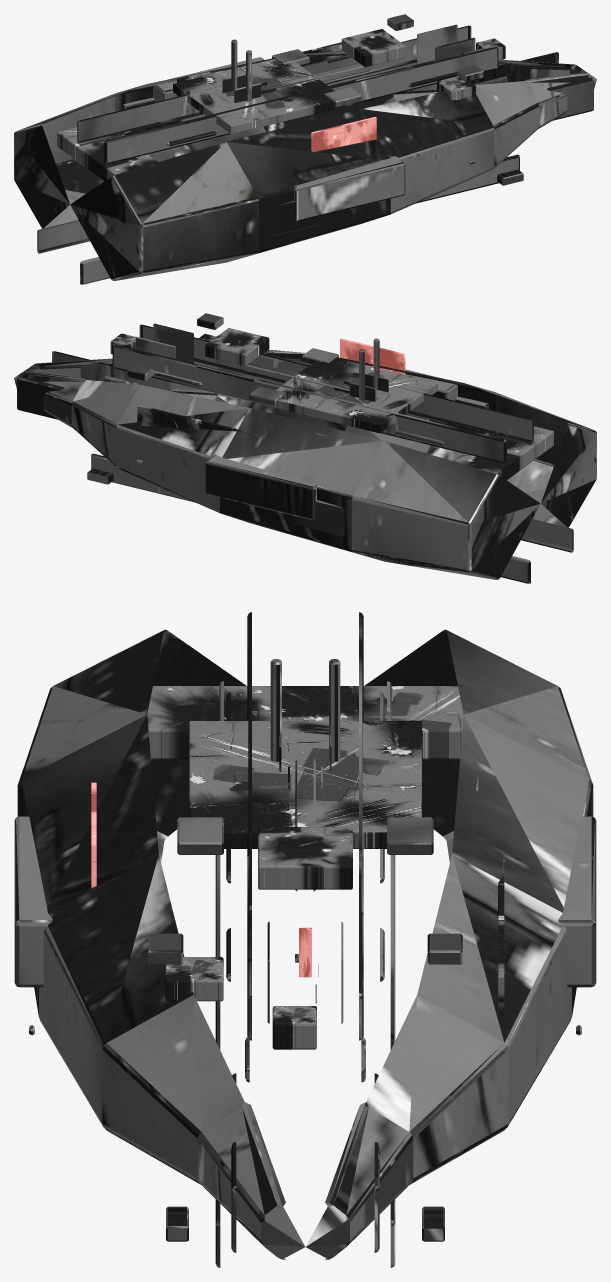
Rendered from hull_gunship.glb.
The picture shows the model from 3 angles, top to bottom: view 1: azimuth 30°, elevation 25°; view 2: azimuth 150°, elevation 25°; view 3: azimuth 270°, elevation 25°; orthographic projection. The views are drawn at different scales.
Parts seen in each view (by area): view 1: LOD0_HULL_GUNSHIP_MAIN, DET_armor_plate, DET_exhaust_soot, DET_turret_mount, DET_military_stencil, DET_weapon_hardpoint, DET_battle_scar; view 2: LOD0_HULL_GUNSHIP_MAIN, DET_armor_plate, DET_exhaust_soot, DET_turret_mount, DET_battle_scar, DET_military_stencil; view 3: LOD0_HULL_GUNSHIP_MAIN, DET_armor_plate, DET_exhaust_soot, DET_turret_mount, DET_weapon_hardpoint, DET_sensor_dome, DET_battle_scar.
Boxes of the visible parts, x1,y1,x2,y2 form: LOD0_HULL_GUNSHIP_MAIN: (14, 14, 596, 284); DET_armor_plate: (173, 59, 344, 134); DET_exhaust_soot: (57, 127, 157, 181); DET_turret_mount: (341, 29, 405, 67); DET_military_stencil: (311, 116, 376, 151); DET_weapon_hardpoint: (437, 76, 475, 100); DET_battle_scar: (228, 42, 343, 70); LOD0_HULL_GUNSHIP_MAIN: (14, 313, 596, 583); DET_armor_plate: (266, 358, 437, 433); DET_exhaust_soot: (453, 426, 553, 480); DET_turret_mount: (205, 328, 269, 366); DET_battle_scar: (137, 405, 258, 435); DET_military_stencil: (340, 338, 405, 374); LOD0_HULL_GUNSHIP_MAIN: (14, 612, 596, 1267); DET_armor_plate: (189, 721, 421, 848); DET_exhaust_soot: (147, 686, 463, 759); DET_turret_mount: (258, 827, 352, 889); DET_weapon_hardpoint: (165, 957, 223, 1001); DET_sensor_dome: (272, 1006, 316, 1049); DET_battle_scar: (498, 858, 504, 1016).
Bounding box in the file's own units: 11.75 × 3.74 × 5.5.
3 materials, 3 textured.
